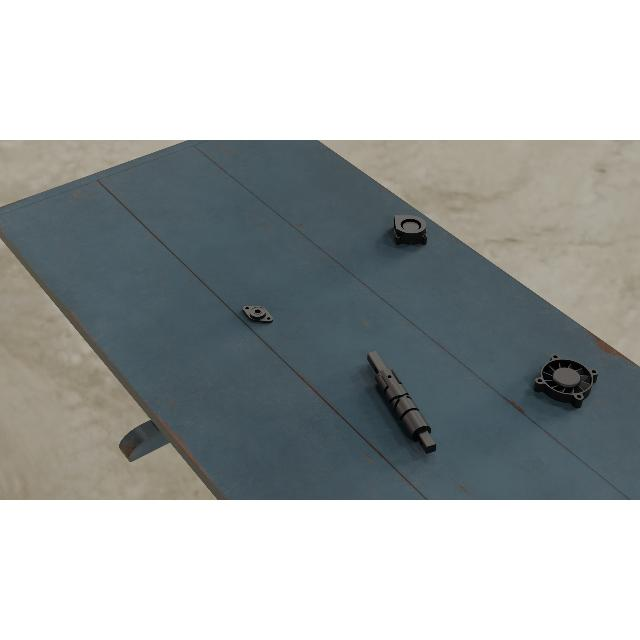Pieza1: (362, 346, 442, 459)
Pieza2: (238, 300, 278, 328)
Pieza3: (394, 214, 428, 246)
Pieza4: (532, 353, 600, 411)
